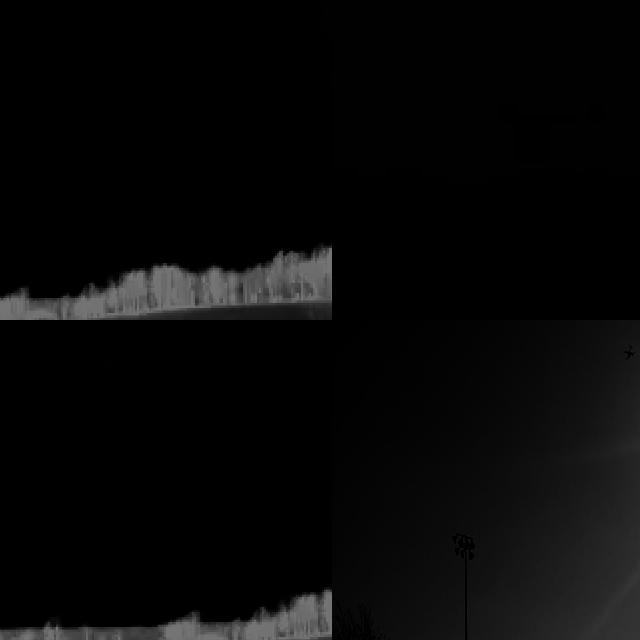drone: (620, 335, 638, 362)
